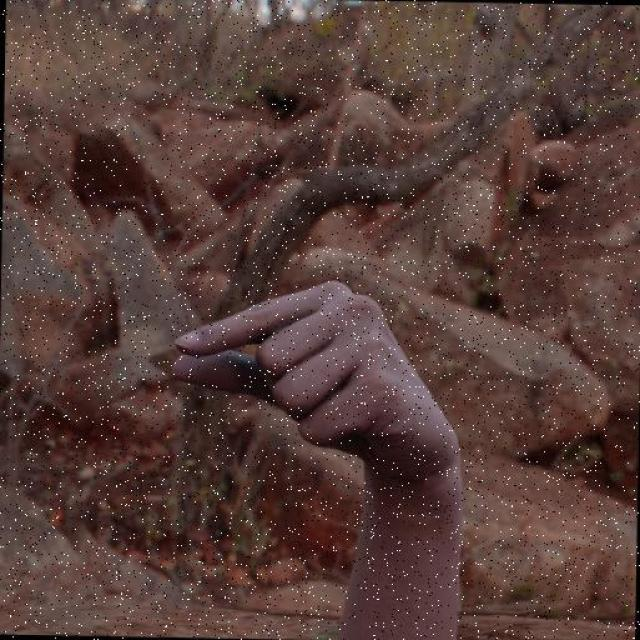G: (136, 277, 482, 502)
